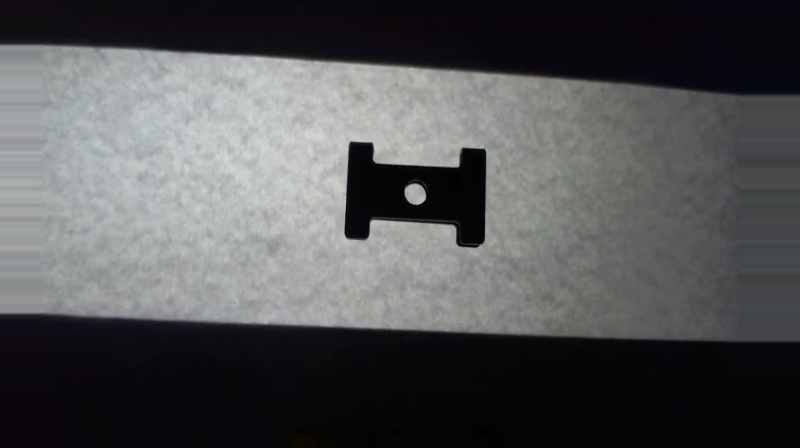O002: (343, 137, 491, 252)
